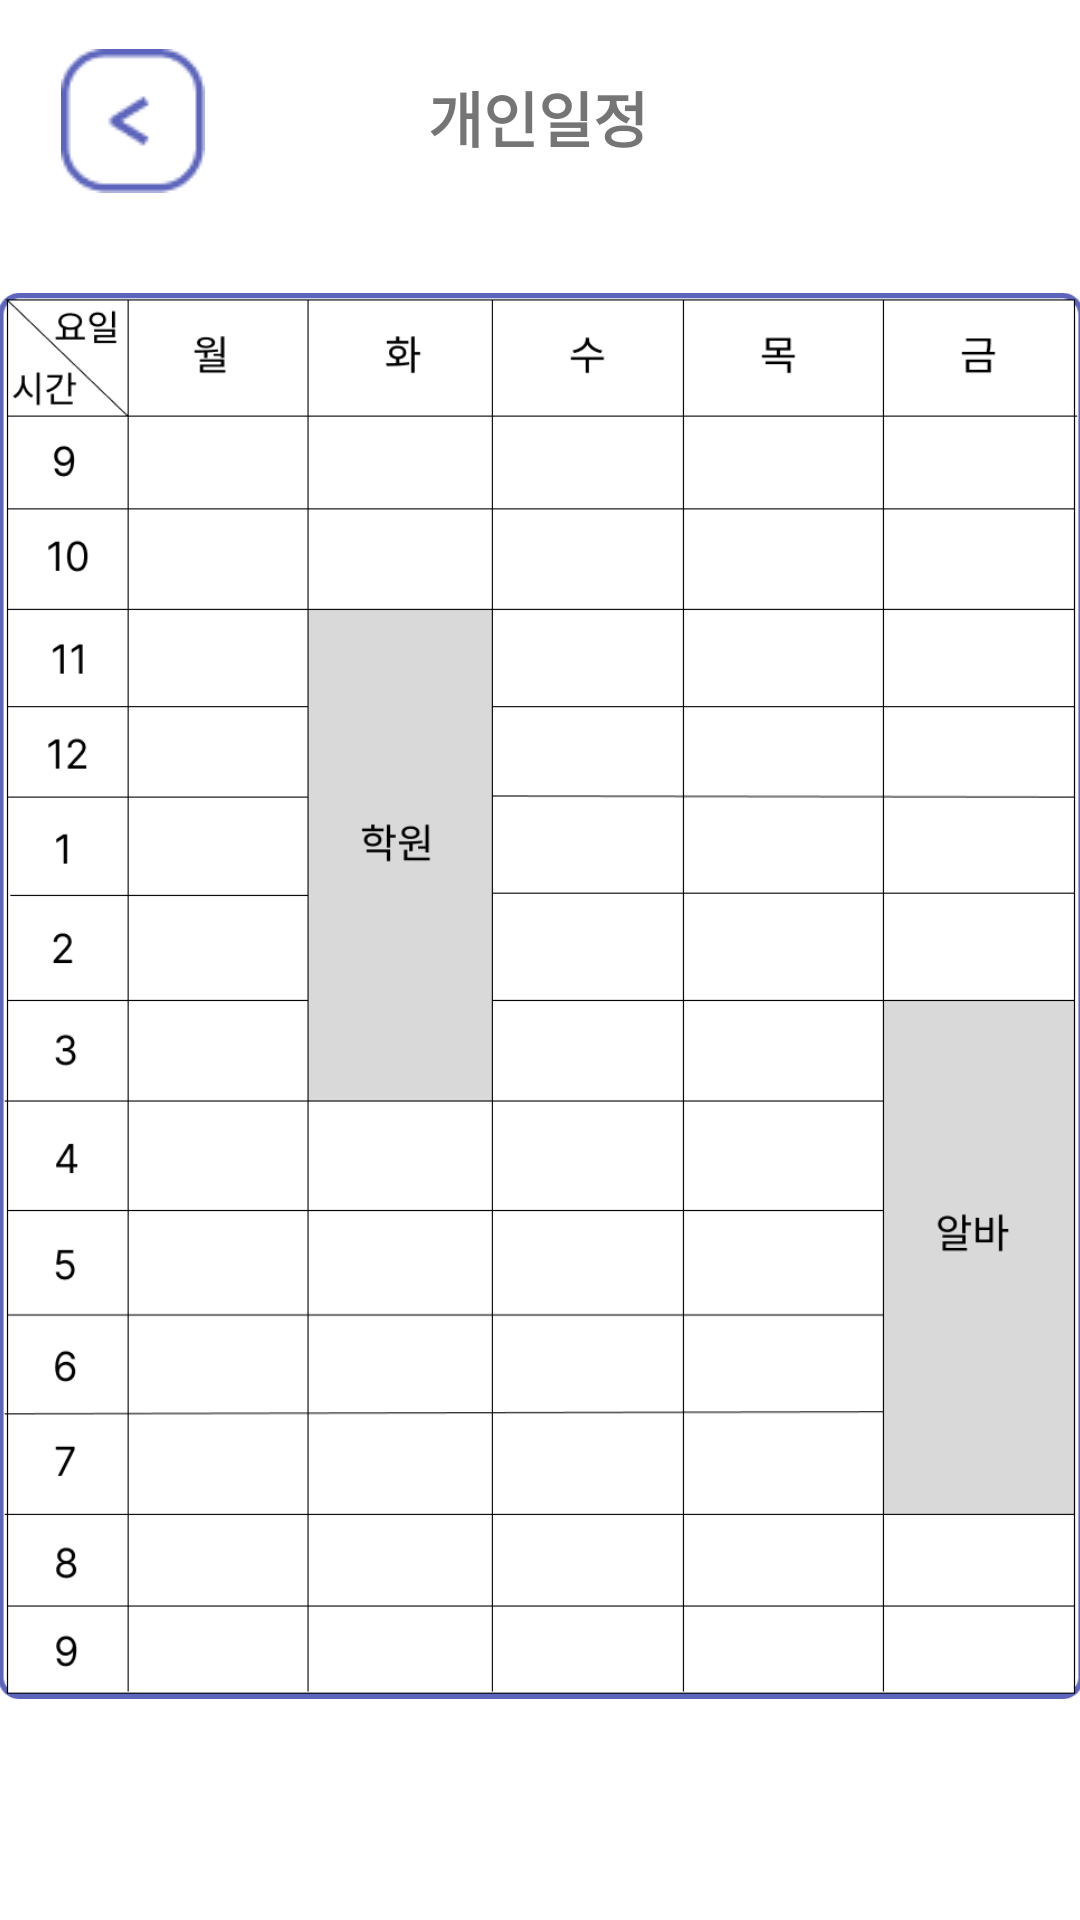

Named icons in this screenshot (1080*1920) and their bounding boxes, (x1, y1, x2, y2):
prev: (61, 49, 205, 193)
